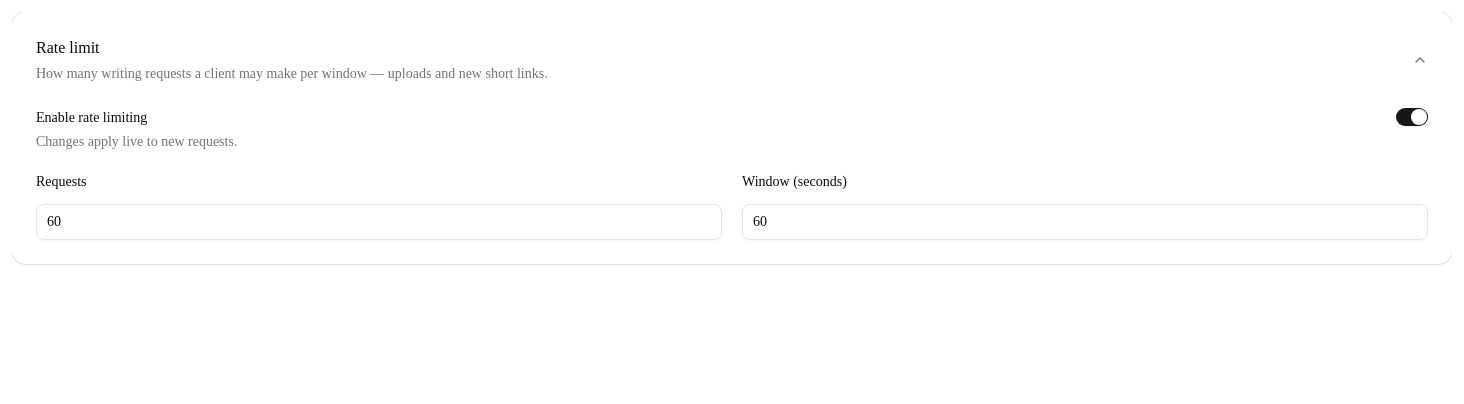
Test case: RateLimitSettings › rejects a request count below one and does not save
Step 1. Replace the text in the number field labelled "Requests" with "0" → (379, 222), box [36,204,722,240]
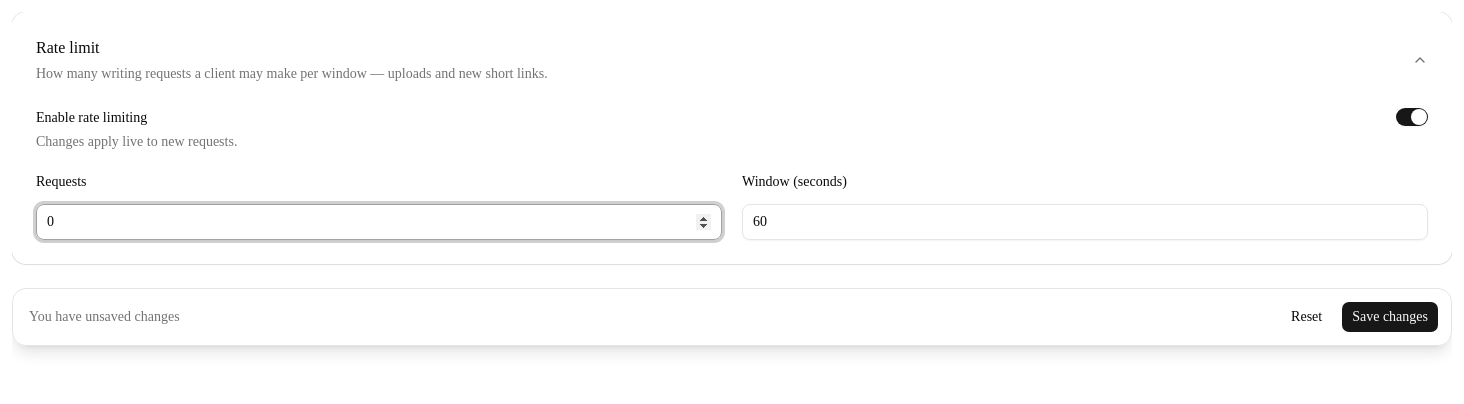
Step 2. Click the button "Save changes" → click(1390, 316), box [1341,300,1439,332]
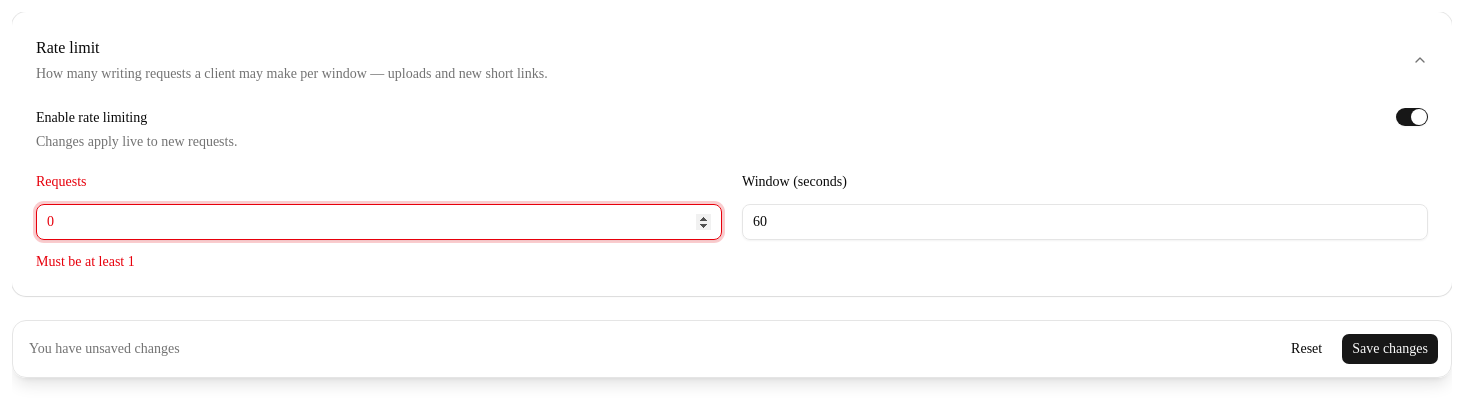
Expected: the text "Must be at least 1" is shown, [36,254,135,268]
